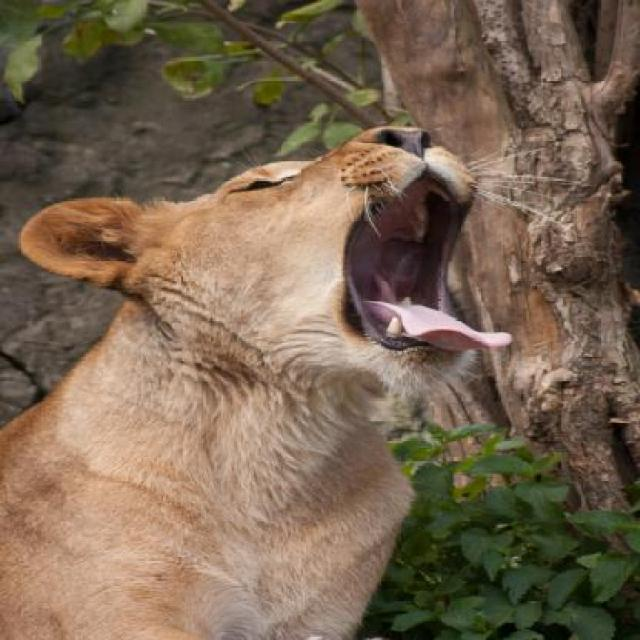Lion: (1, 99, 552, 638)
